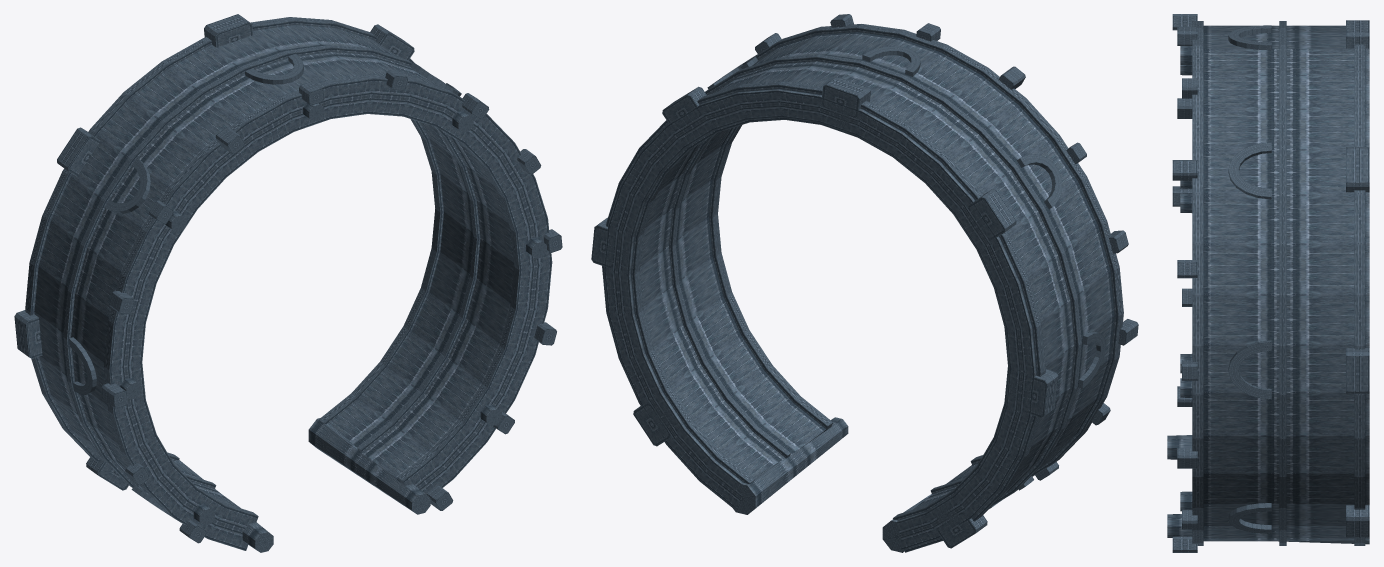
The model's file is rv_rotunda_shell.obj.
3 views of the same model, side by side, from view 1: azimuth 30°, elevation 25°; view 2: azimuth 150°, elevation 25°; view 3: azimuth 270°, elevation 25° (orthographic). The views are drawn at different scales.
Parts seen in each view (by area): view 1: rv_rotunda_shell; view 2: rv_rotunda_shell; view 3: rv_rotunda_shell.
Boxes of the visible parts, box(x1,y1,x2,y2) form: rv_rotunda_shell: box(14, 14, 562, 552); rv_rotunda_shell: box(591, 14, 1138, 552); rv_rotunda_shell: box(1167, 14, 1369, 552).
Size of the model in its own units: 25.4 by 23.99 by 9.4.
1 material, 1 textured.
